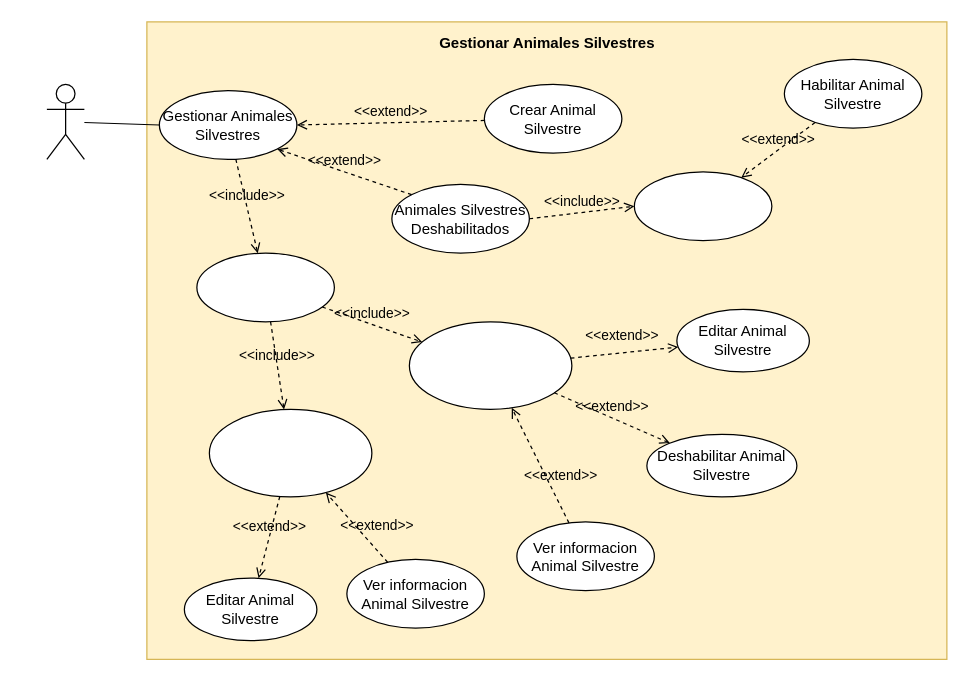
The diagram is 969 pixels wide and 681 high, and some of its shapes have lost their labels. Here are the shapes that lost their labels. From the top down, the centre of each, then its label:
At point 65,121: "F. Veterinario".
At point 702,206: "Lista de animales silvestres deshabilitados".
At point 265,287: "Buscar Animal Silvestre".
At point 490,365: "Lista de Animales Silvestres sin recepción".
At point 290,452: "Lista de Animales Silvestres recepcionados".
